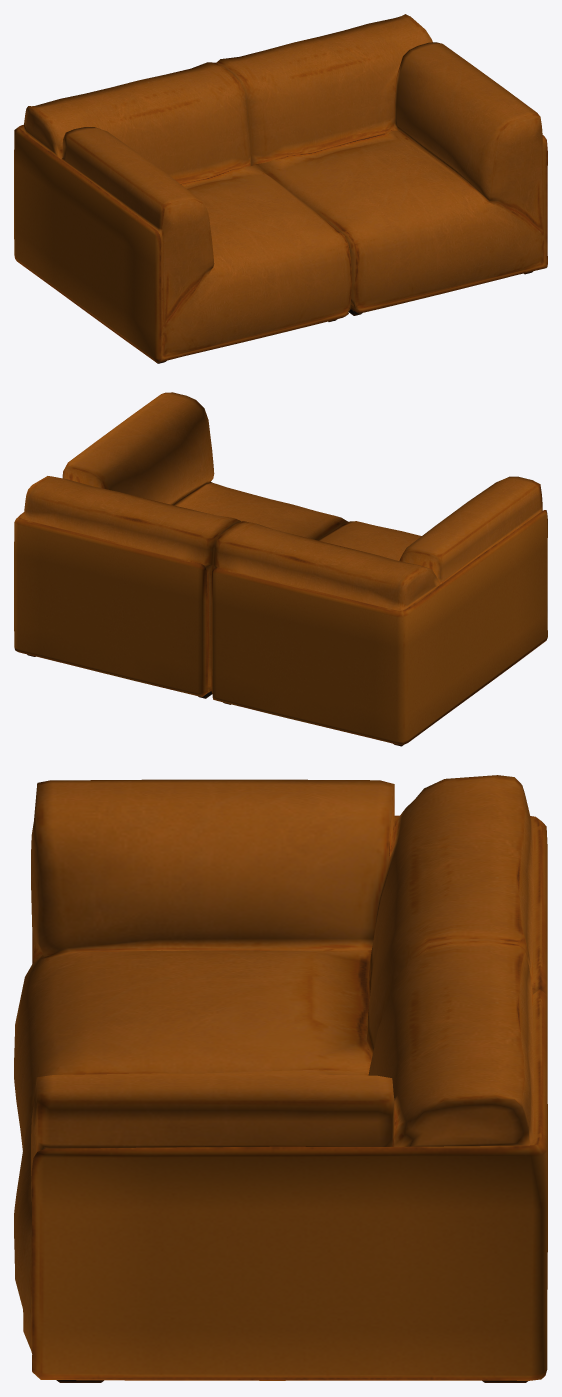
File: new_sofa_90.fbx
The picture shows the model from 3 angles, top to bottom: view 1: azimuth 30°, elevation 25°; view 2: azimuth 150°, elevation 25°; view 3: azimuth 270°, elevation 25°; orthographic projection. The views are drawn at different scales.
Visible parts, largest first — view 1: New_Sofa_DFS; view 2: New_Sofa_DFS; view 3: New_Sofa_DFS.
Part boxes in pixels (box(x1,y1,x2,y2)): New_Sofa_DFS: box(14, 14, 547, 363); New_Sofa_DFS: box(14, 392, 547, 746); New_Sofa_DFS: box(14, 775, 547, 1382).
Bounding box in the file's own units: 3.1 × 1.24 × 2.08.
